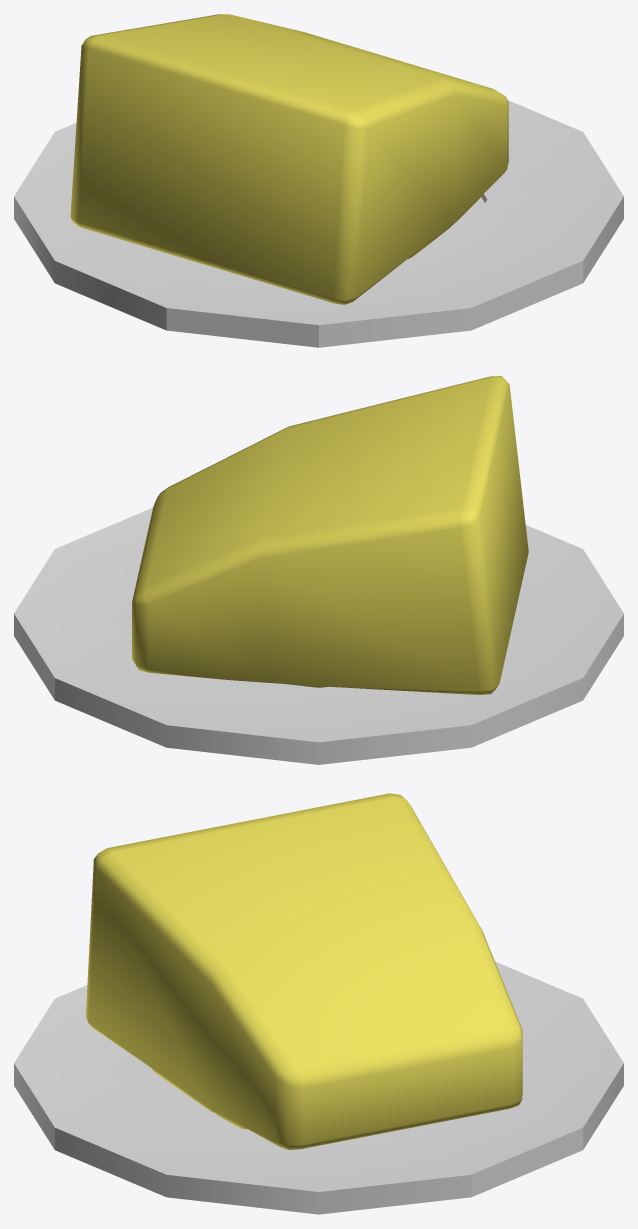
Rendered from Butter_Plate.fbx.
3 renders of one model, top to bottom at view 1: azimuth 30°, elevation 25°; view 2: azimuth 150°, elevation 25°; view 3: azimuth 270°, elevation 25°, orthographic.
Visible parts, largest first — view 1: Butter, Plate; view 2: Butter, Plate; view 3: Butter, Plate.
Part boxes in pixels (<box>): Butter: <box>70,14,508,304</box>; Plate: <box>14,100,623,347</box>; Butter: <box>132,376,528,694</box>; Plate: <box>14,507,623,764</box>; Butter: <box>85,793,522,1149</box>; Plate: <box>14,961,623,1214</box>.
Bounding box in the file's own units: 167 × 167 × 63.32.
